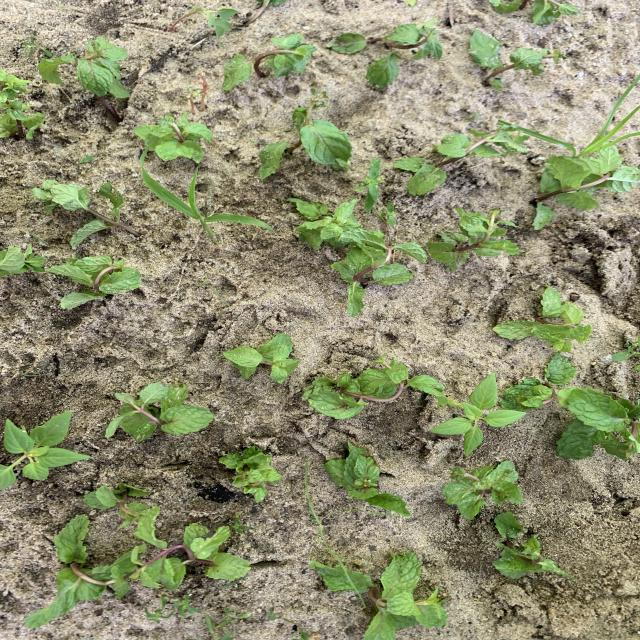crop: (309, 551, 449, 639), (26, 517, 131, 627), (125, 506, 250, 589), (394, 125, 529, 196), (258, 90, 352, 180), (331, 227, 426, 316), (303, 359, 442, 419), (332, 22, 442, 87), (32, 182, 138, 247), (535, 147, 639, 209), (324, 443, 410, 515), (107, 383, 213, 441), (495, 288, 591, 351), (427, 207, 519, 270), (557, 389, 639, 459), (39, 38, 129, 97), (494, 514, 575, 579), (224, 34, 315, 90), (502, 353, 589, 411), (47, 256, 141, 307), (443, 461, 522, 519), (470, 31, 548, 89), (222, 334, 299, 382), (288, 198, 360, 249), (135, 114, 211, 162), (219, 447, 281, 502), (84, 483, 149, 527), (490, 0, 578, 23), (0, 110, 45, 138), (1, 247, 43, 275), (0, 70, 29, 102)
weed: (141, 166, 273, 244), (520, 75, 640, 157), (430, 373, 525, 456), (0, 411, 89, 490), (356, 158, 381, 211), (203, 282, 231, 307), (613, 336, 639, 359), (173, 594, 199, 616), (221, 609, 251, 624), (145, 603, 167, 621), (231, 514, 250, 533), (380, 202, 395, 225), (24, 36, 40, 55), (23, 246, 42, 259), (374, 354, 387, 363), (467, 113, 481, 120), (81, 156, 94, 163), (33, 234, 44, 241)
